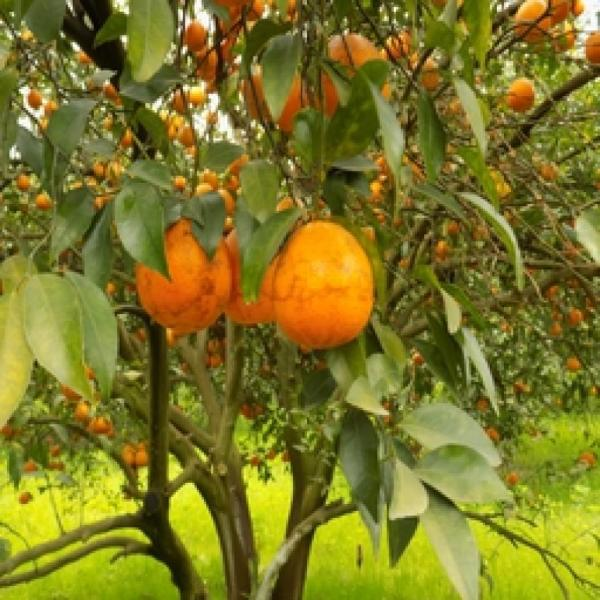Canker: (272, 215, 380, 355), (133, 211, 241, 343), (214, 211, 286, 332)
